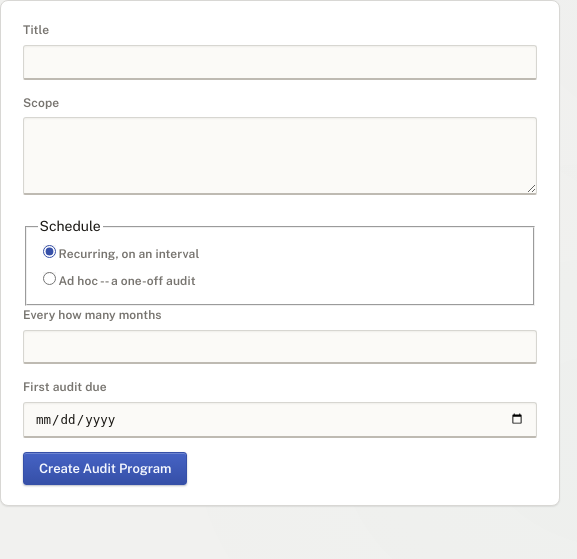
AuditProgramForm › requires an interval when the schedule is interval-based
In the field labelled "Title": (280, 62) left=23, top=45, right=537, bottom=80, type "AI System Audit"
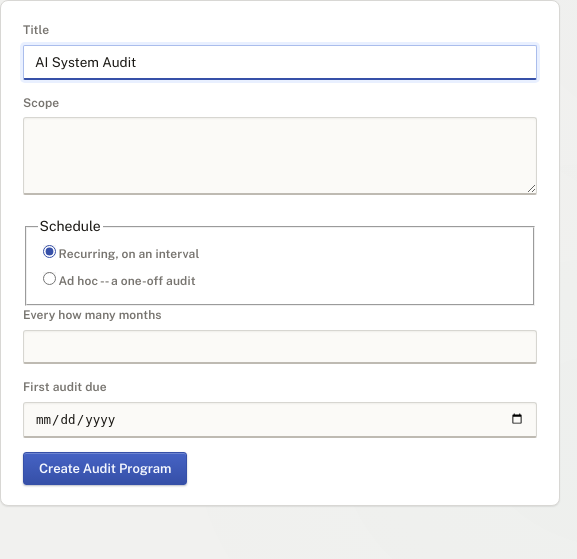
Click the button "Create Audit Program": (105, 468) left=23, top=452, right=187, bottom=485
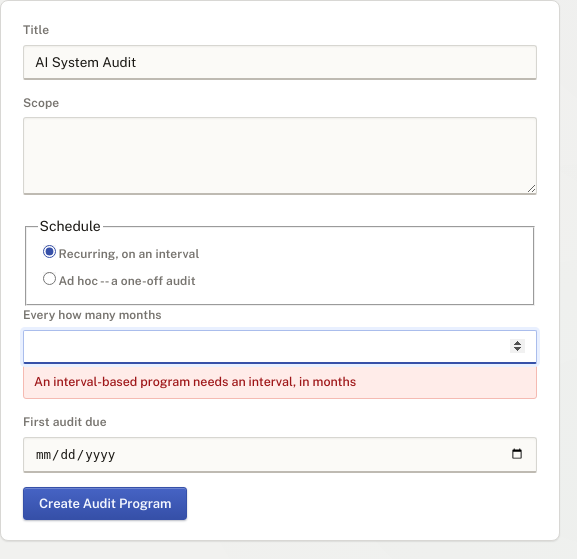
Expected: the message shows "An interval-based program needs an interval", left=34, top=374, right=356, bottom=389
